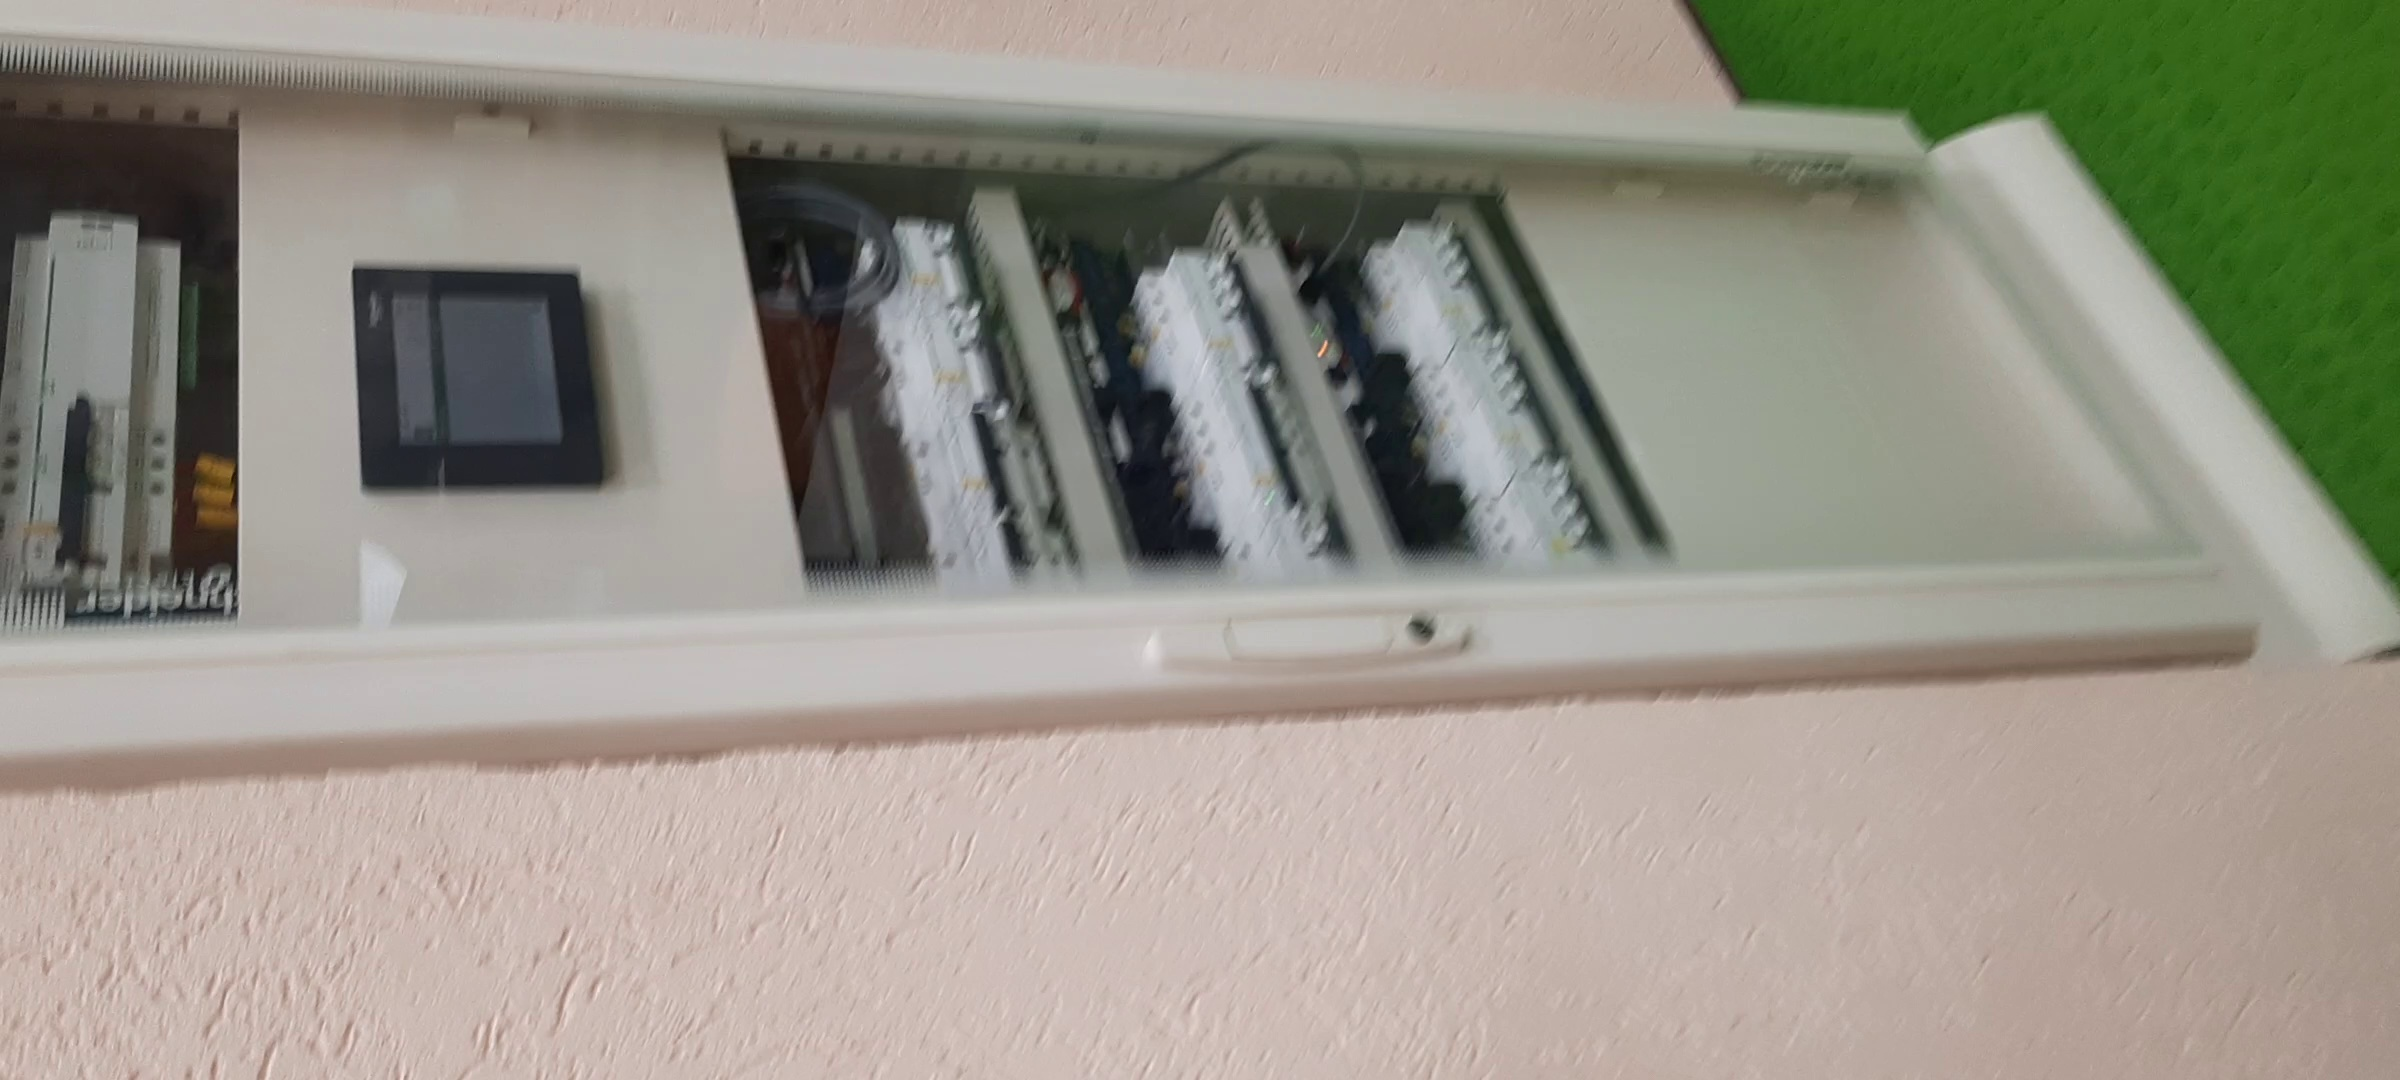smart_stand: (2, 109, 2294, 739)
